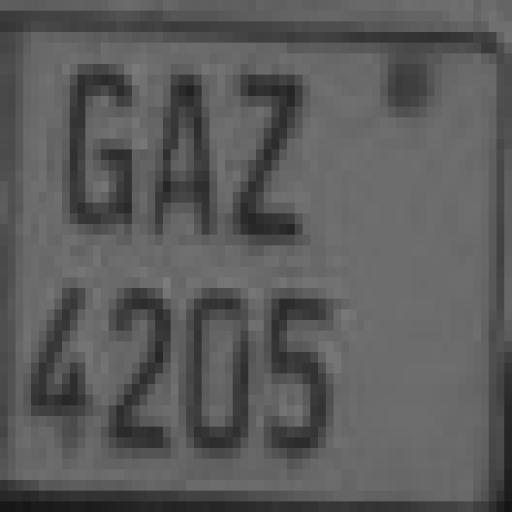0: (180, 264, 254, 479)
2: (104, 265, 175, 478)
4: (26, 270, 98, 474)
5: (262, 278, 355, 478)
A: (142, 48, 226, 262)
G: (62, 55, 137, 235)
Z: (227, 59, 320, 272)
